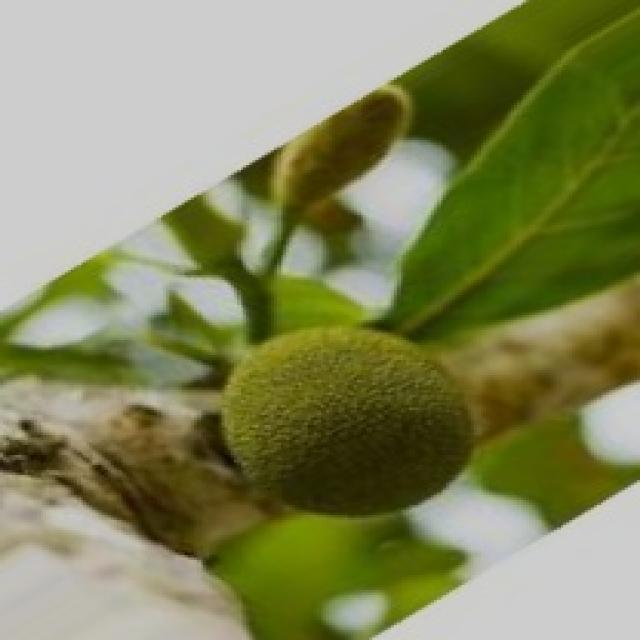Fruit: (200, 310, 489, 540)
